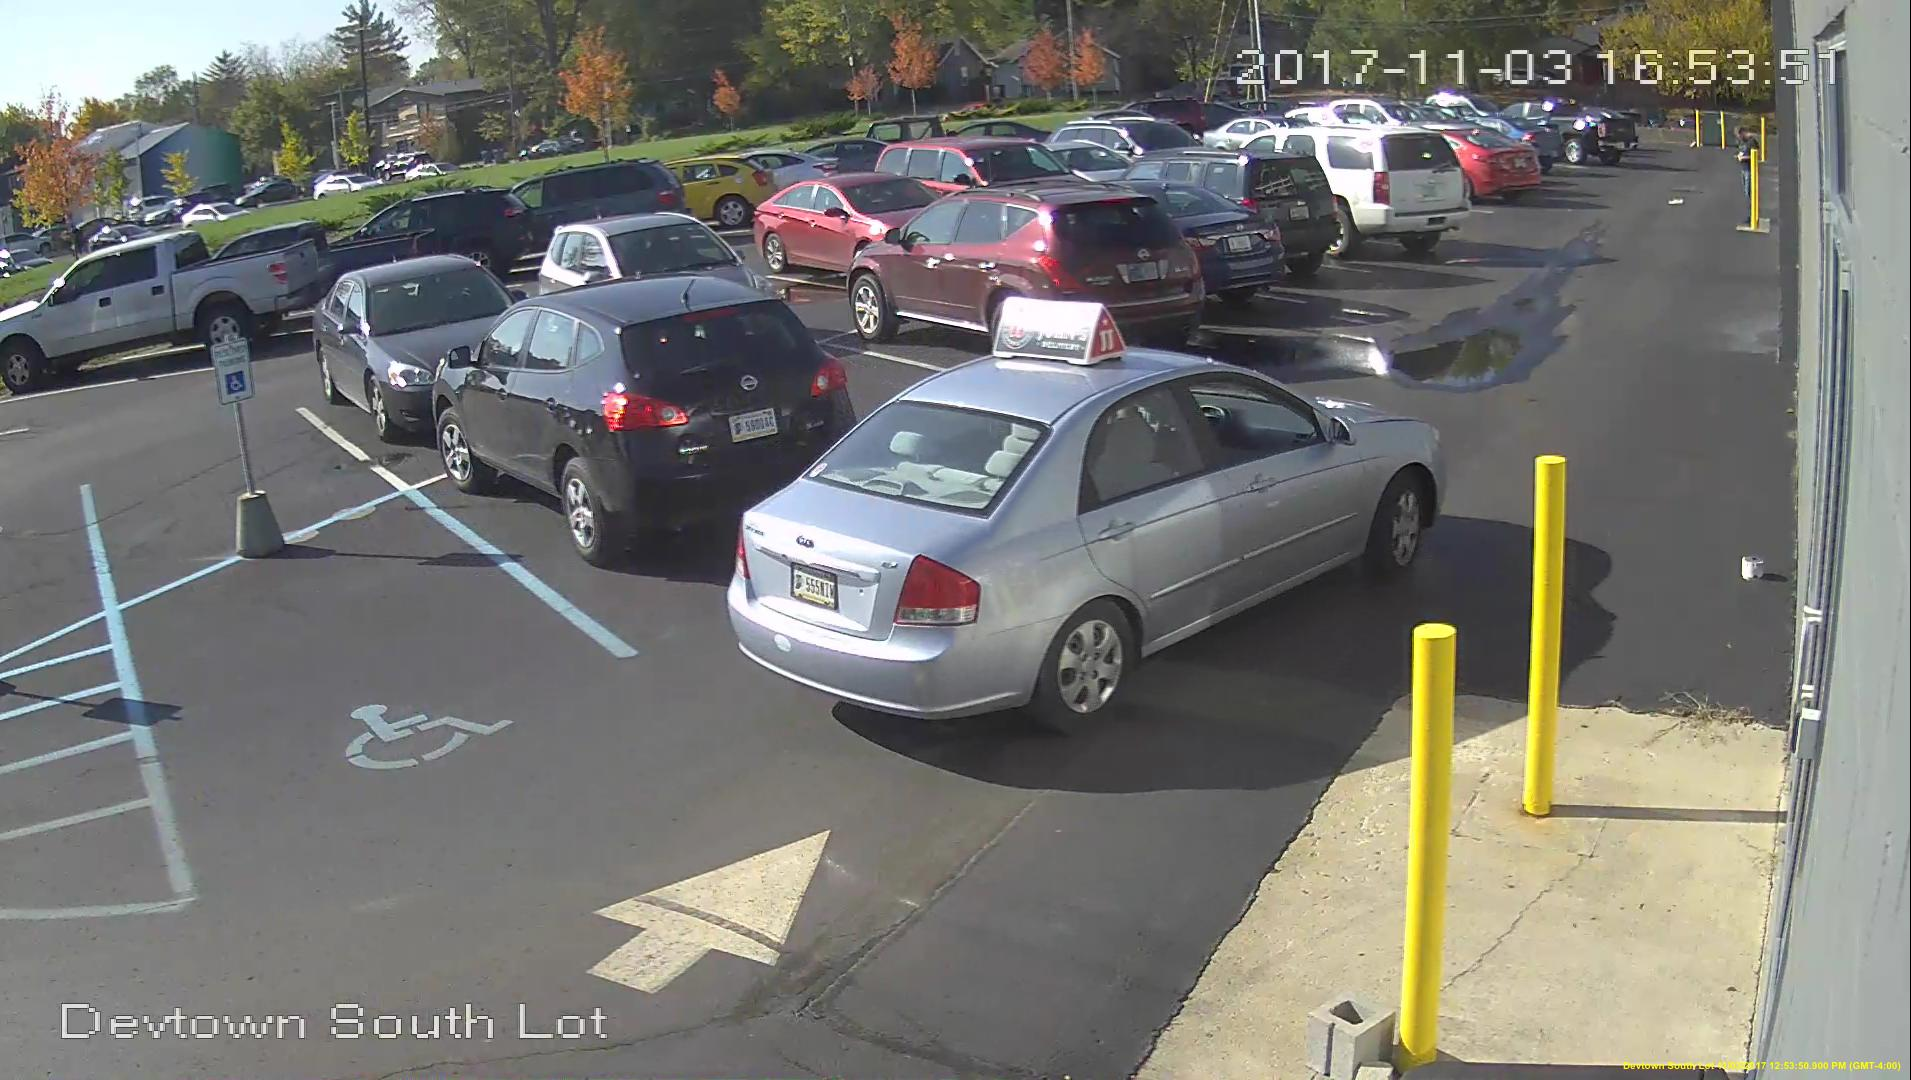jimmy_johns: (987, 291, 1127, 371)
